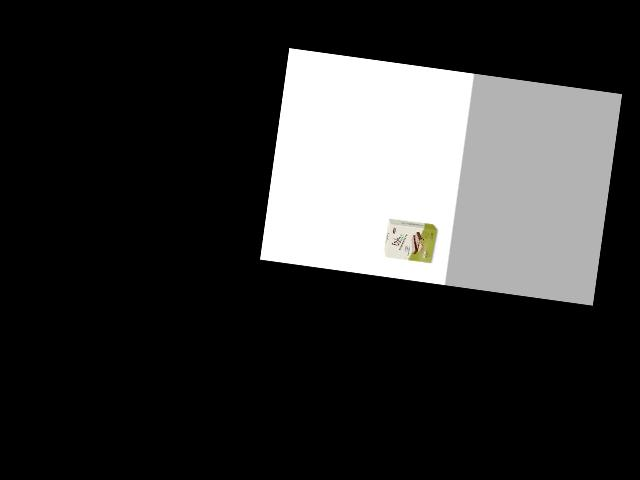chocolate: (381, 215, 440, 268)
